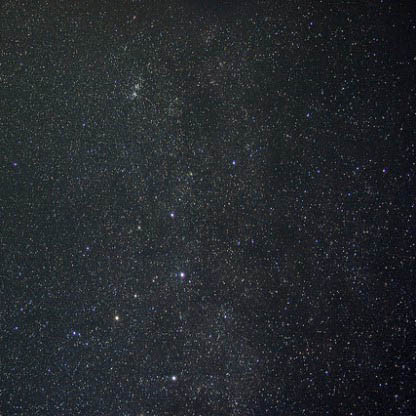Cassiopeia: (122, 80, 158, 119), (162, 200, 192, 235), (105, 304, 135, 337), (219, 152, 247, 178), (171, 262, 194, 287)
